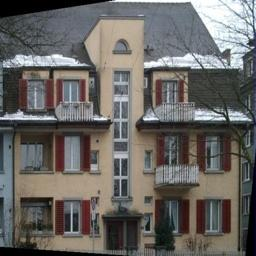building: (9, 16, 240, 248)
